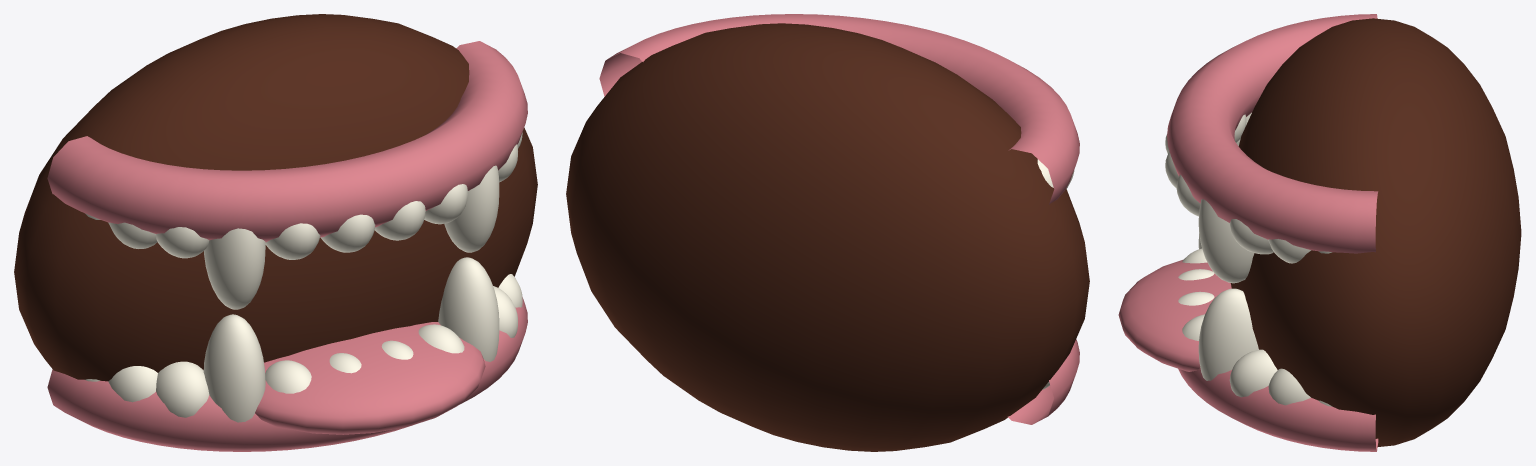
The model's file is mouth-carnivore-healthy.glb.
3 renders of one model, left to right at view 1: azimuth 30°, elevation 25°; view 2: azimuth 150°, elevation 25°; view 3: azimuth 270°, elevation 25°, orthographic. The views are drawn at different scales.
Parts seen in each view (by area): view 1: oral cavity, gingiva.001, tongue, gingiva, tooth.083, tooth.088, tooth.095, tooth.100, tooth.082, tooth.096, tooth.081, tooth.097 (+7 smaller); view 2: oral cavity, gingiva.001, gingiva; view 3: oral cavity, gingiva.001, gingiva, tongue, tooth.088, tooth.100, tooth.089, tooth.090, tooth.101, tooth.102, tooth.099.
Boxes of the visible parts, <box> form: oral cavity: <box>14,14,537,381</box>; gingiva.001: <box>47,41,527,242</box>; tongue: <box>255,322,485,434</box>; gingiva: <box>47,297,527,451</box>; tooth.083: <box>203,314,265,422</box>; tooth.088: <box>438,257,499,361</box>; tooth.095: <box>204,228,265,309</box>; tooth.100: <box>444,165,499,252</box>; tooth.082: <box>156,361,209,417</box>; tooth.096: <box>265,223,320,259</box>; tooth.081: <box>108,366,157,402</box>; tooth.097: <box>320,214,375,252</box>; oral cavity: <box>566,23,1089,451</box>; gingiva.001: <box>599,14,1079,204</box>; gingiva: <box>1008,339,1079,424</box>; oral cavity: <box>1230,18,1521,446</box>; gingiva.001: <box>1167,14,1378,253</box>; gingiva: <box>1178,368,1378,451</box>; tongue: <box>1118,260,1231,371</box>; tooth.088: <box>1198,288,1258,380</box>; tooth.100: <box>1198,199,1254,283</box>; tooth.089: <box>1229,349,1277,397</box>; tooth.090: <box>1268,368,1310,405</box>; tooth.101: <box>1229,219,1273,254</box>; tooth.102: <box>1268,239,1310,263</box>; tooth.099: <box>1176,174,1200,216</box>.
Size of the model in its own units: 1.3 by 0.98 by 0.98.
